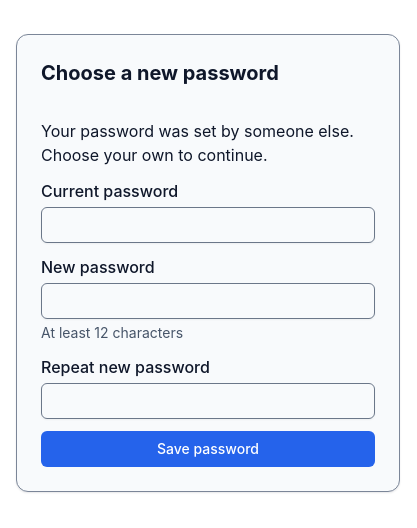
it: choose a new password (M1S-E07-02) › checks that both new passwords match
Type "temporary-pass-1234" into the password field labelled "Current password" at (208, 225), box [41,207,375,243]
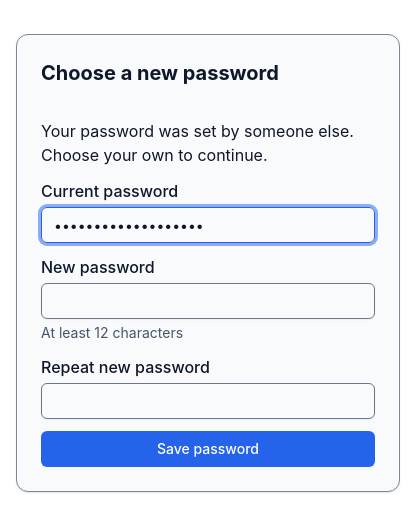
Type "member-chosen-pass-5678" into the password field labelled "New password" at (208, 301), box [41,283,375,319]
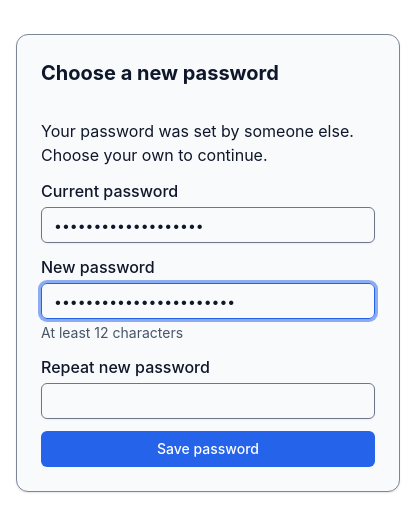
Type "something-else-5678" into the password field labelled "Repeat new password" at (208, 401), box [41,383,375,419]
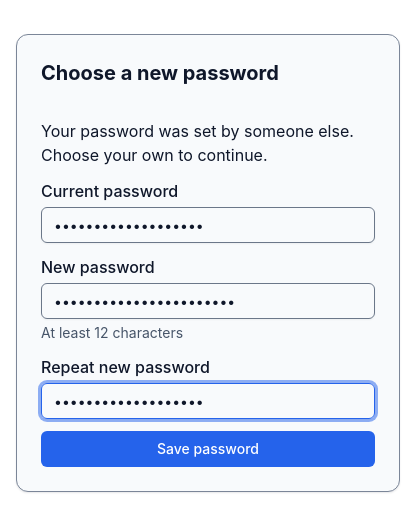
Click the button "Save password" at (208, 449), box [41,431,375,467]
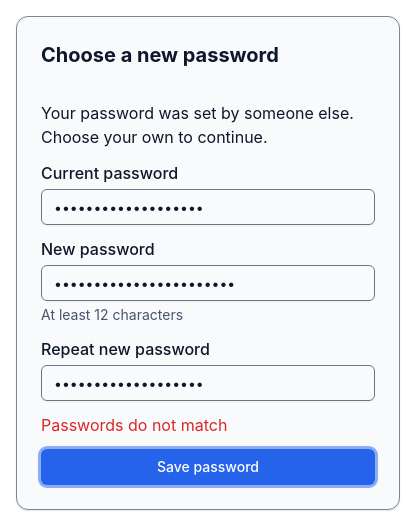
expect the message reads "Passwords do not match": met, box [41,415,227,435]
